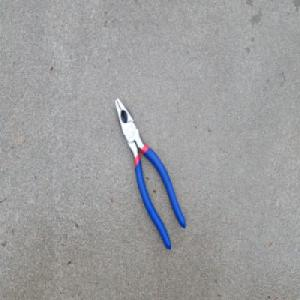Pliers: (114, 94, 187, 250)
